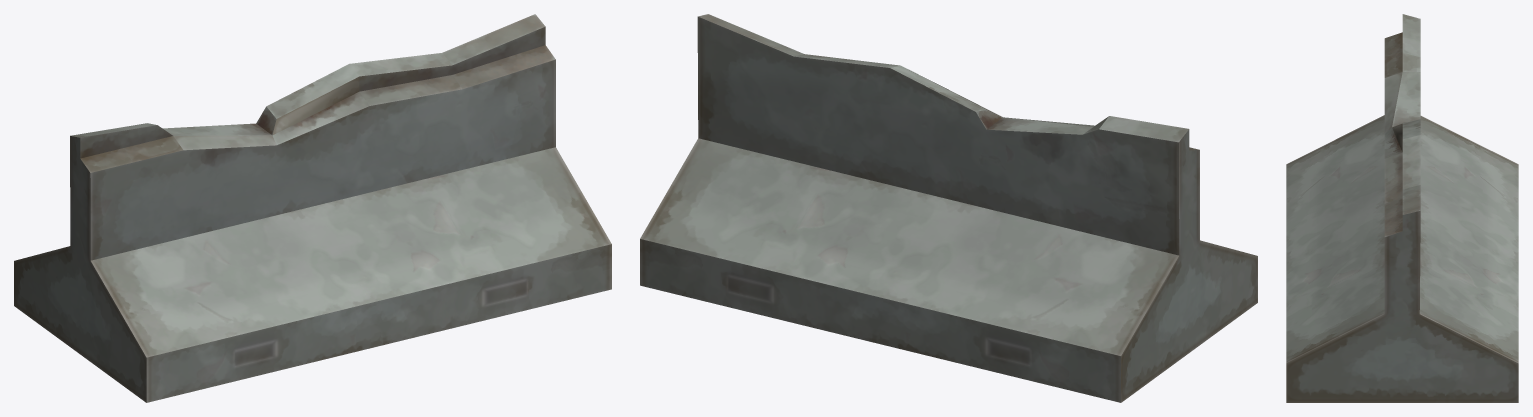
The model's file is BarrierConcrete02_3.FBX.
The picture shows the model from 3 angles, left to right: view 1: azimuth 30°, elevation 25°; view 2: azimuth 150°, elevation 25°; view 3: azimuth 270°, elevation 25°; orthographic projection. The views are drawn at different scales.
Parts seen in each view (by area): view 1: BarrierConcrete02_3; view 2: BarrierConcrete02_3; view 3: BarrierConcrete02_3.
Boxes of the visible parts, x1,y1,x2,y2 form: BarrierConcrete02_3: [14, 14, 611, 402]; BarrierConcrete02_3: [640, 14, 1257, 402]; BarrierConcrete02_3: [1286, 14, 1518, 402].
Size of what is drawn, in the model's own units: 2 by 0.9012 by 0.9855.
